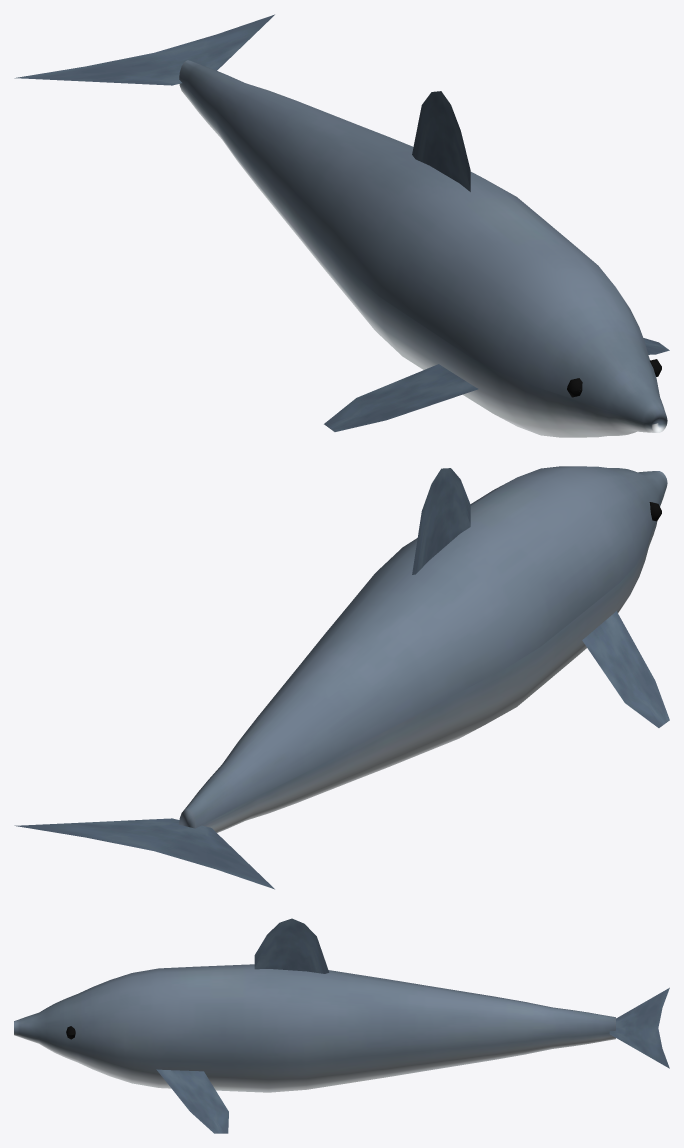
File: bottlenose_dolphin.glb
3 renders of one model, top to bottom at view 1: azimuth 30°, elevation 25°; view 2: azimuth 150°, elevation 25°; view 3: azimuth 270°, elevation 25°, orthographic. The views are drawn at different scales.
Bounding box in the file's own units: 1.02 × 0.7752 × 2.72.
Materials: 1 (1 with a texture image).
